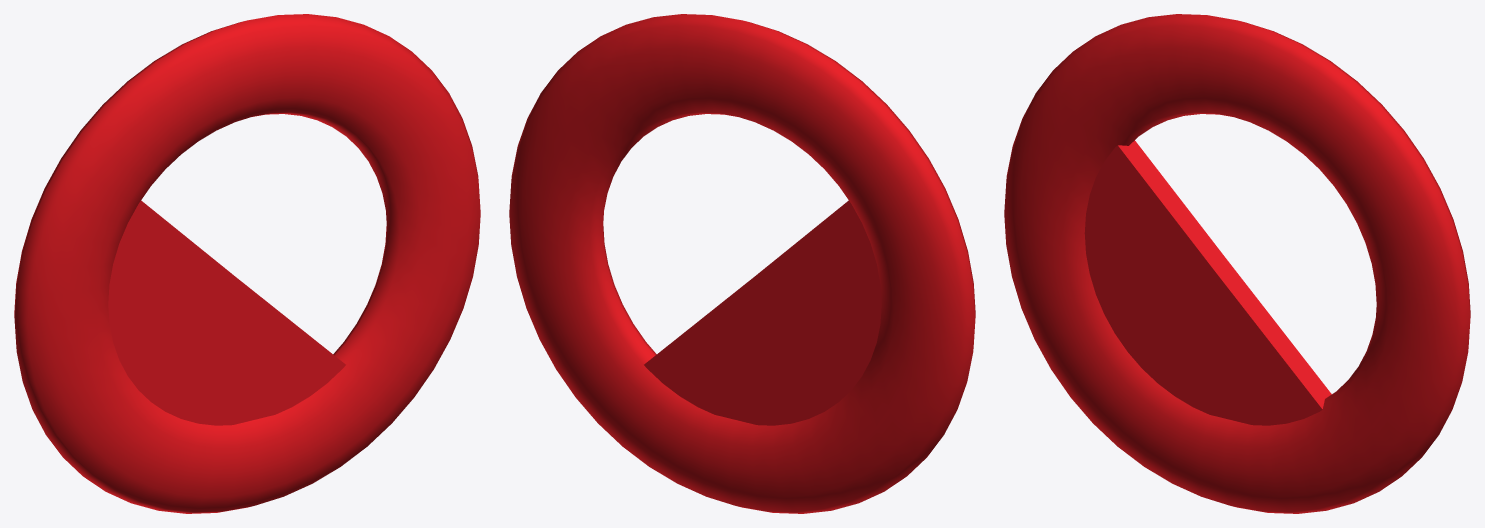
Rendered from special_circle.glb.
The picture shows the model from 3 angles, left to right: view 1: azimuth 30°, elevation 25°; view 2: azimuth 150°, elevation 25°; view 3: azimuth 330°, elevation 25°; orthographic projection.
Parts seen in each view (by area): view 1: 环体, 立方体; view 2: 环体, 立方体; view 3: 环体, 立方体.
Boxes of the visible parts, x1=… form: 环体: x1=14, y1=14, x2=480, y2=513; 立方体: x1=108, y1=200, x2=345, y2=425; 环体: x1=509, y1=14, x2=975, y2=513; 立方体: x1=644, y1=200, x2=881, y2=425; 环体: x1=1004, y1=14, x2=1470, y2=513; 立方体: x1=1084, y1=140, x2=1331, y2=425.
Bounding box in the file's own units: 2 × 2 × 0.2.
